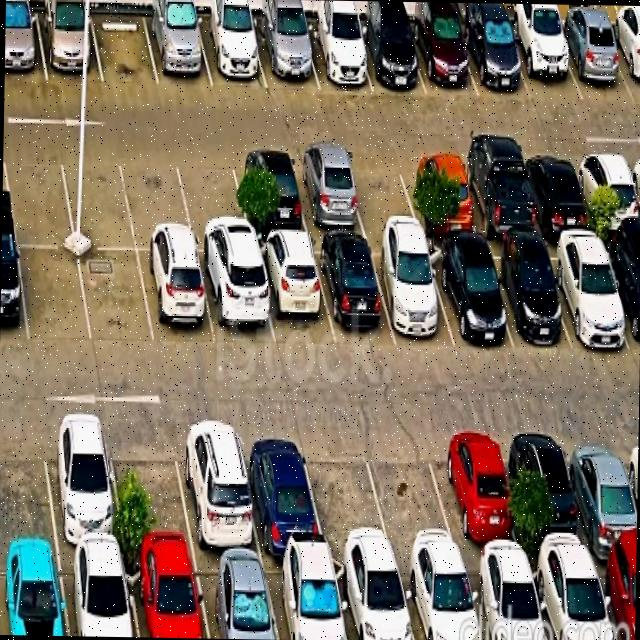empty: (362, 426, 461, 558), (300, 427, 393, 557), (106, 420, 194, 553), (174, 150, 252, 252), (59, 148, 136, 249), (121, 150, 195, 250), (78, 249, 154, 346), (0, 418, 56, 549), (3, 146, 75, 245), (18, 247, 91, 343), (343, 151, 420, 232), (90, 11, 158, 85)
occupied: (431, 426, 523, 559), (173, 420, 261, 554), (237, 424, 325, 553), (40, 417, 124, 551), (507, 426, 592, 558), (562, 427, 637, 557), (542, 238, 631, 347), (481, 243, 570, 347), (425, 244, 513, 348), (368, 241, 454, 347), (254, 239, 334, 347), (312, 239, 395, 343), (137, 251, 215, 344), (192, 556, 278, 639), (197, 254, 274, 346), (528, 557, 613, 640), (124, 555, 208, 638), (262, 558, 346, 640), (331, 558, 414, 640), (457, 153, 538, 237), (463, 559, 547, 640), (397, 559, 481, 640), (59, 552, 137, 637), (231, 151, 308, 234), (401, 153, 479, 234), (553, 23, 633, 101), (290, 151, 366, 233), (505, 23, 582, 101), (519, 152, 593, 232), (0, 552, 68, 636), (458, 19, 530, 98), (407, 18, 478, 96), (572, 151, 640, 231), (353, 21, 425, 94), (196, 15, 266, 88), (144, 13, 212, 87), (301, 21, 372, 91), (36, 10, 102, 81), (599, 238, 640, 352), (252, 20, 318, 87), (592, 556, 636, 640), (4, 10, 47, 80), (0, 242, 28, 343), (605, 26, 640, 101)
